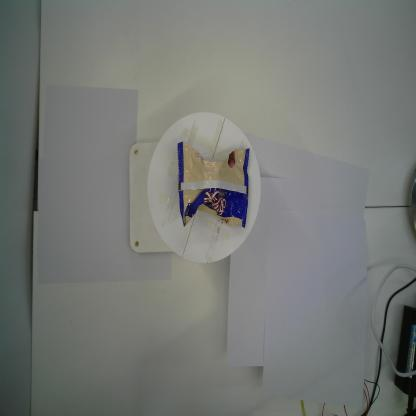Dessert: (174, 140, 252, 232)
